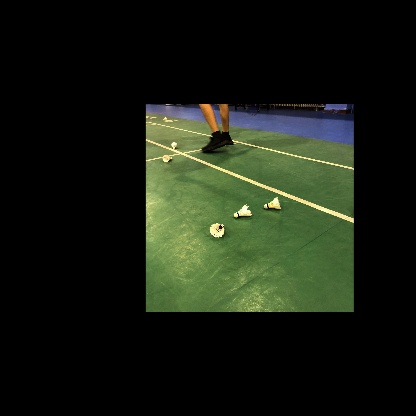ball_single: (234, 204, 252, 218), (209, 223, 224, 238), (264, 197, 281, 209), (163, 155, 172, 162), (171, 142, 177, 149), (163, 117, 167, 120)
